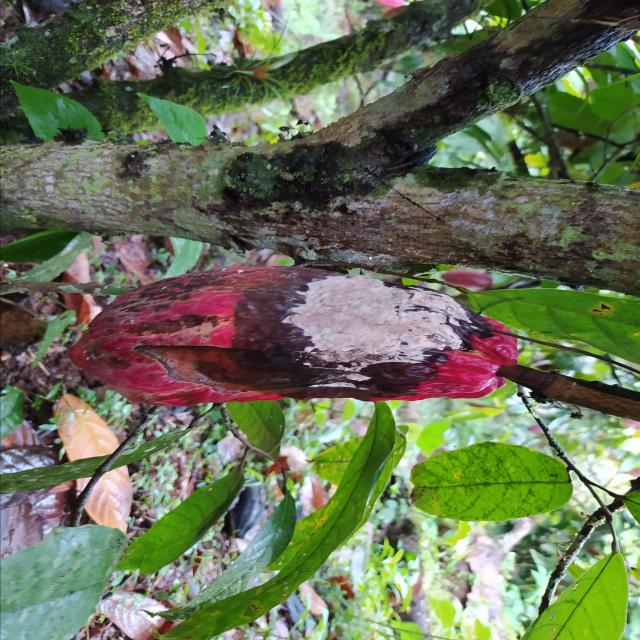Monilia: (66, 266, 518, 408)
